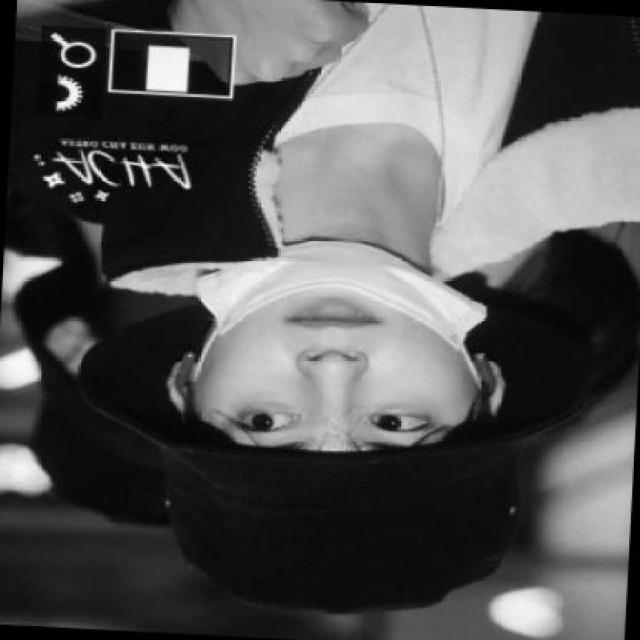earphone: (464, 330, 517, 421), (173, 335, 206, 416)
